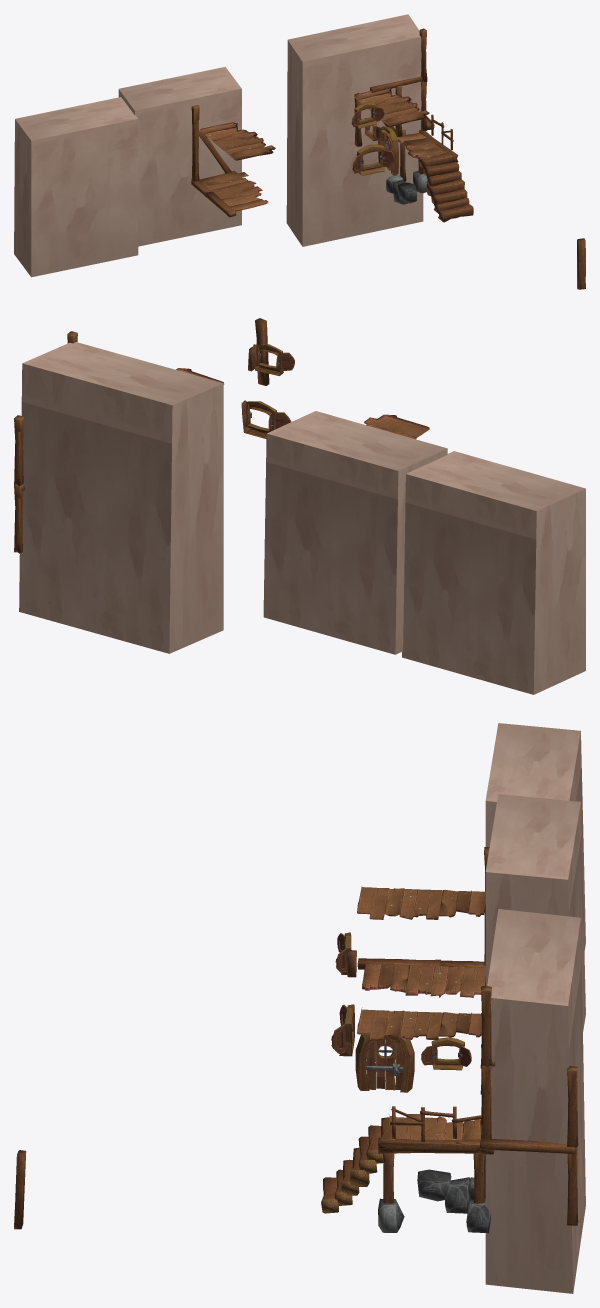
File: Decorations2.fbx
The picture shows the model from 3 angles, top to bottom: view 1: azimuth 30°, elevation 25°; view 2: azimuth 150°, elevation 25°; view 3: azimuth 270°, elevation 25°; orthographic projection. The views are drawn at different scales.
Parts seen in each view (by area): view 1: Box1750, Box1752, Box1751, Roof_Low_097, Roof_Low_082, Roof_Low_096, polySurface355, Roof_Low_037, polySurface367, Object4308, polySurface369, Woods Low UVs520 (+3 smaller); view 2: Box1750, Box1752, Box1751, polySurface355, Roof_Low_097, polySurface369, Object4303, Object4304, Woods Low UVs520; view 3: Box1750, Box1751, Box1752, Roof_Low_097, Roof_Low_082, Roof_Low_096, polySurface367, Roof_Low_037, Object1520, polySurface371, Woods Low UVs531, polySurface355 (+9 smaller).
Boxes of the visible parts, x1=… form: Box1750: x1=286, y1=14, x2=423, y2=246; Box1752: x1=14, y1=97, x2=138, y2=277; Box1751: x1=118, y1=66, x2=241, y2=246; Roof_Low_097: x1=200, y1=122, x2=275, y2=160; Roof_Low_082: x1=199, y1=170, x2=268, y2=211; Roof_Low_096: x1=354, y1=87, x2=429, y2=126; polySurface355: x1=352, y1=144, x2=394, y2=175; Roof_Low_037: x1=397, y1=132, x2=445, y2=161; polySurface367: x1=378, y1=126, x2=398, y2=175; Object4308: x1=191, y1=105, x2=199, y2=181; polySurface369: x1=351, y1=102, x2=384, y2=128; Woods Low UVs520: x1=577, y1=238, x2=585, y2=289; Box1750: x1=19, y1=342, x2=223, y2=653; Box1752: x1=402, y1=451, x2=585, y2=694; Box1751: x1=263, y1=411, x2=447, y2=654; polySurface355: x1=241, y1=400, x2=291, y2=438; Roof_Low_097: x1=364, y1=414, x2=429, y2=439; polySurface369: x1=253, y1=344, x2=294, y2=375; Object4303: x1=14, y1=415, x2=24, y2=486; Object4304: x1=14, y1=484, x2=23, y2=553; Woods Low UVs520: x1=255, y1=318, x2=269, y2=385; Box1750: x1=485, y1=909, x2=585, y2=1293; Box1751: x1=485, y1=794, x2=585, y2=1031; Box1752: x1=485, y1=723, x2=585, y2=950; Roof_Low_097: x1=357, y1=886, x2=485, y2=919; Roof_Low_082: x1=362, y1=964, x2=485, y2=997; Roof_Low_096: x1=357, y1=1007, x2=481, y2=1040; polySurface367: x1=355, y1=1034, x2=414, y2=1092; Roof_Low_037: x1=389, y1=1114, x2=481, y2=1140; Object1520: x1=378, y1=1137, x2=493, y2=1154; polySurface371: x1=421, y1=1037, x2=471, y2=1070; Woods Low UVs531: x1=480, y1=1138, x2=574, y2=1154; polySurface355: x1=331, y1=1004, x2=354, y2=1056.
Bounding box in the file's own units: 331 × 150 × 261.
